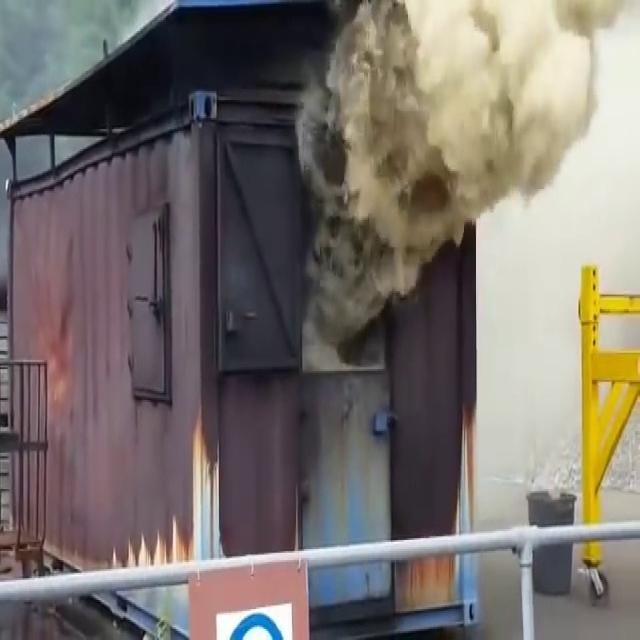Smoke: (284, 0, 640, 354)
